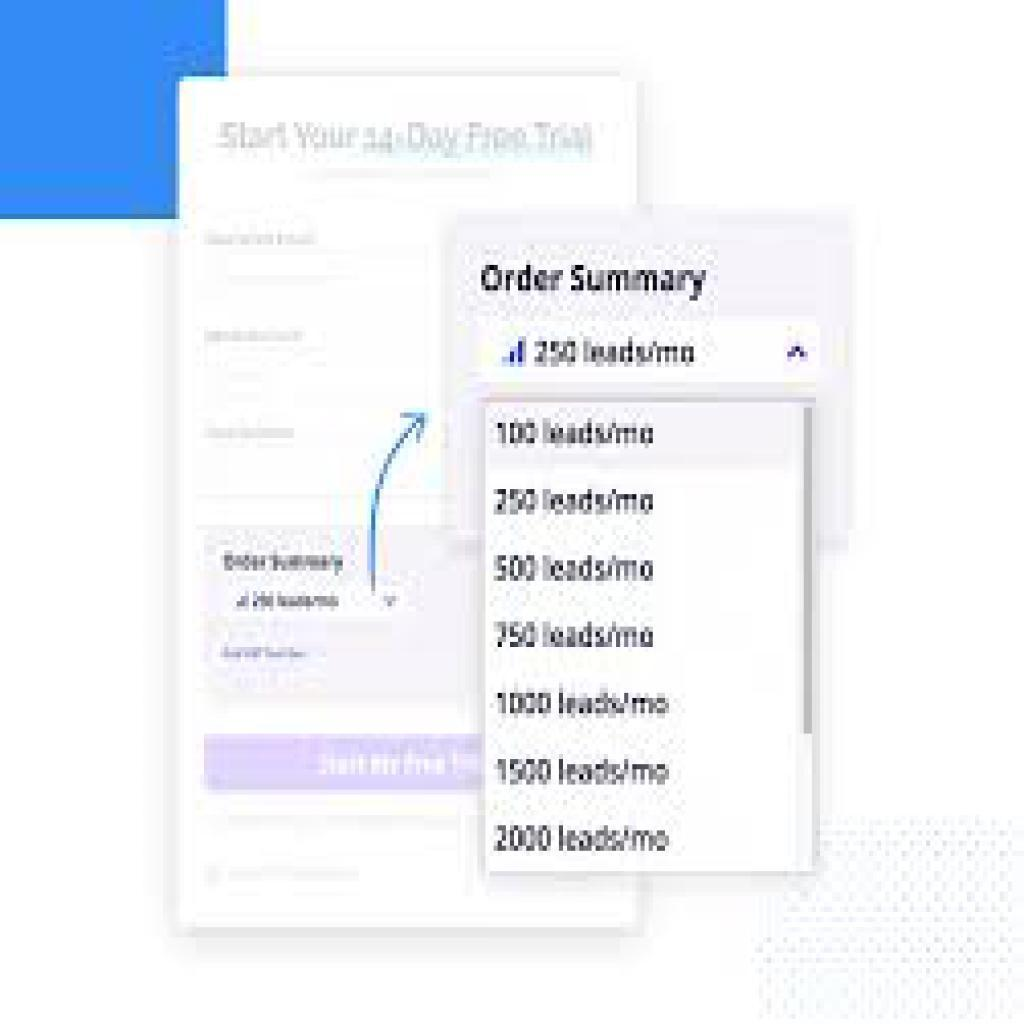dropdown: (484, 321, 820, 385)
